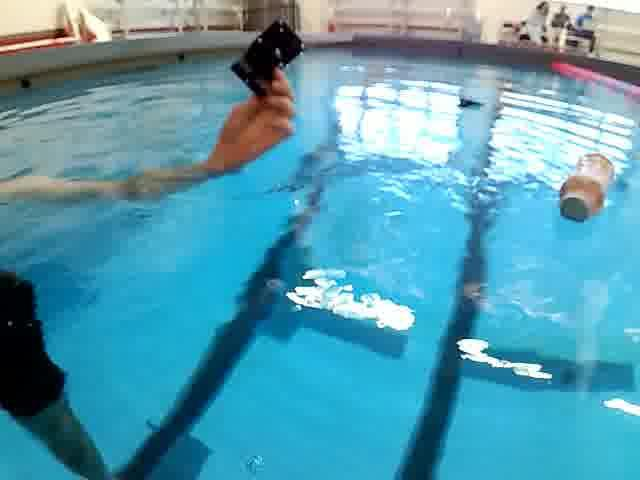Bottle: (555, 148, 621, 228)
CamMount: (227, 18, 311, 102), (450, 93, 487, 113)
